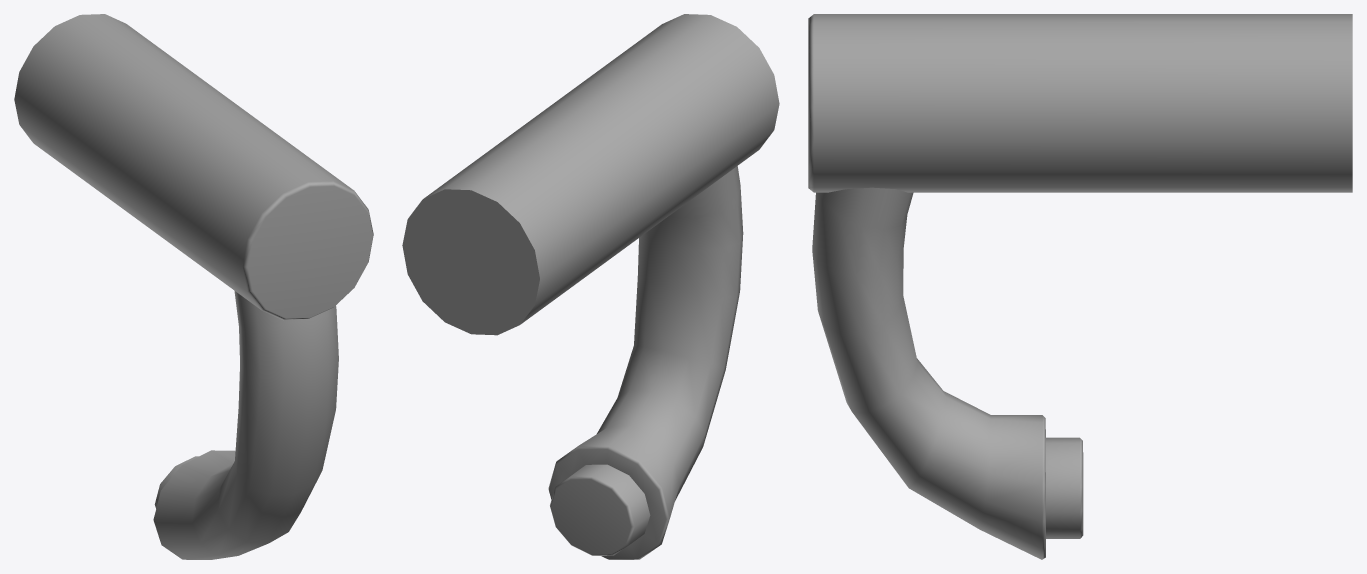
File: MeshSinkFaucet_5_0.obj
The picture shows the model from 3 angles, left to right: view 1: azimuth 30°, elevation 25°; view 2: azimuth 150°, elevation 25°; view 3: azimuth 270°, elevation 25°; orthographic projection. The views are drawn at different scales.
Visible parts, largest first — view 1: SinkFaucet_5; view 2: SinkFaucet_5; view 3: SinkFaucet_5.
Part boxes in pixels (x1,y1,x2,y2): SinkFaucet_5: (14, 14, 373, 559); SinkFaucet_5: (402, 14, 779, 559); SinkFaucet_5: (808, 14, 1352, 559).
Size of the model in its own units: 0.063 by 0.2059 by 0.1917.
